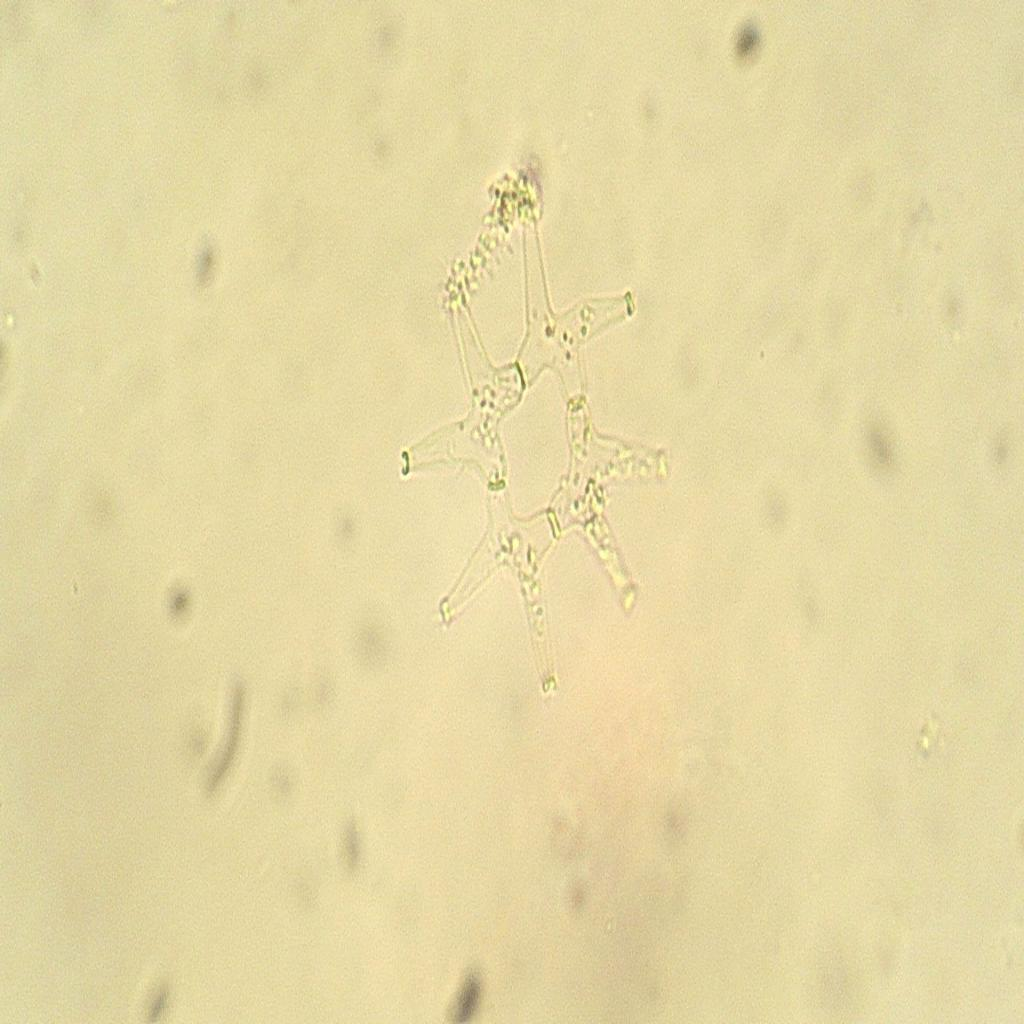Pediastrum_75TH: (379, 155, 690, 714)
